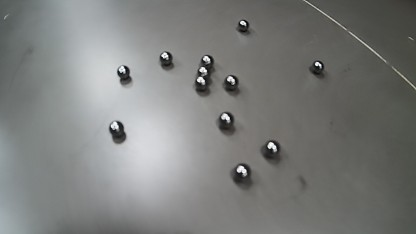ironball: (232, 163, 251, 182), (261, 140, 280, 158), (218, 111, 234, 129), (109, 120, 124, 138), (223, 75, 239, 91), (200, 54, 214, 69), (310, 60, 324, 74), (159, 51, 172, 66), (195, 76, 208, 91), (117, 65, 130, 79), (237, 19, 249, 32), (197, 66, 210, 78)
